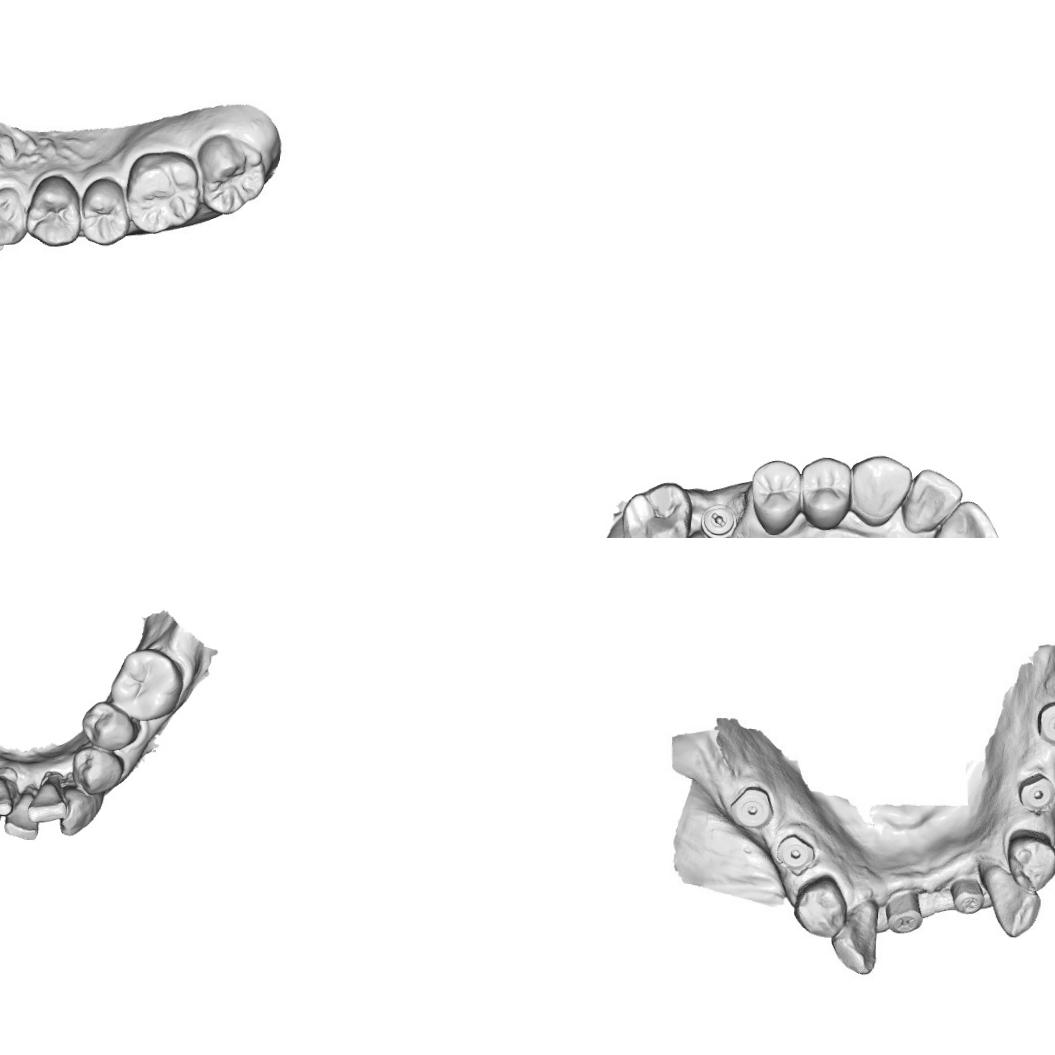canine: (849, 452, 914, 526), (983, 866, 1040, 936), (834, 904, 884, 973), (58, 784, 106, 839), (0, 187, 26, 247)
implant: (726, 782, 779, 832), (1012, 767, 1055, 814), (773, 834, 817, 873), (951, 874, 986, 916), (1033, 699, 1055, 747)
implant_minus: (699, 501, 739, 538)
implant_plus: (887, 890, 923, 934)
incisor: (898, 466, 965, 538), (927, 498, 1001, 538), (2, 788, 40, 842), (26, 779, 68, 824), (0, 774, 14, 818)
molar: (124, 149, 205, 235), (197, 130, 268, 218), (108, 645, 185, 722), (617, 478, 695, 538)
premolar: (744, 456, 805, 538), (798, 454, 854, 532), (27, 176, 81, 250), (78, 176, 134, 247), (793, 874, 851, 936), (1003, 827, 1055, 891), (80, 700, 140, 752), (71, 746, 125, 796)
